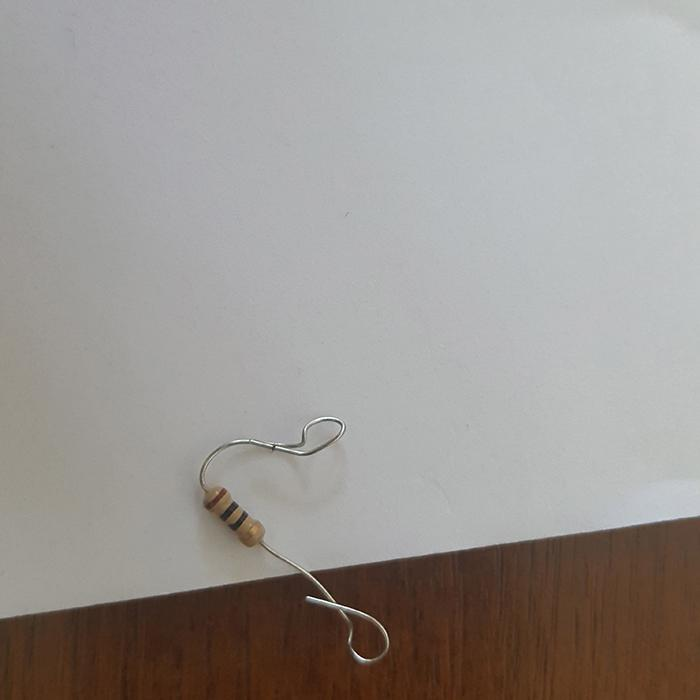resistor: (201, 482, 263, 547)
